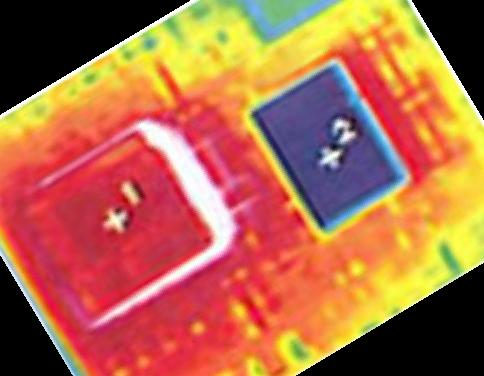componente_T: (3, 3, 479, 372)
